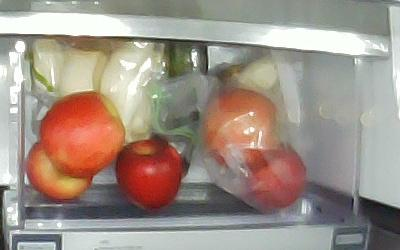apple: (38, 89, 126, 178), (114, 137, 182, 210), (23, 139, 93, 200)
apple_vinyl: (201, 87, 279, 170), (245, 140, 304, 208)
